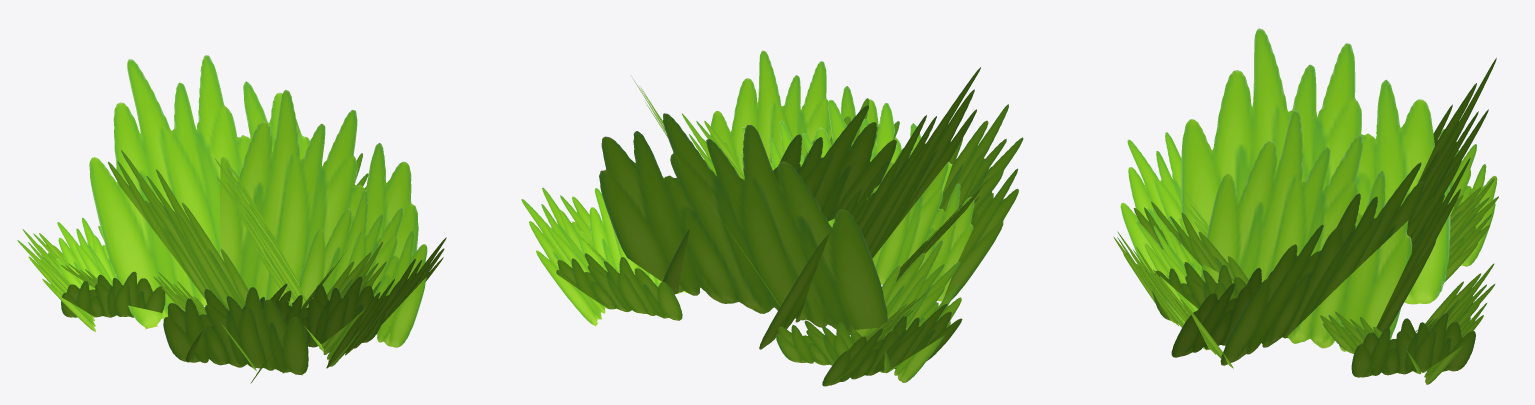
The model's file is grass_4.fbx.
The picture shows the model from 3 angles, left to right: view 1: azimuth 30°, elevation 25°; view 2: azimuth 150°, elevation 25°; view 3: azimuth 270°, elevation 25°; orthographic projection. The views are drawn at different scales.
Visible parts, largest first — view 1: grass_4; view 2: grass_4; view 3: grass_4.
Boxes of the visible parts, x1,y1,x2,y2 form: grass_4: (17,55,446,383); grass_4: (521,50,1023,386); grass_4: (1113,28,1498,384).
Bounding box in the file's own units: 70.76 × 39.67 × 64.76.
